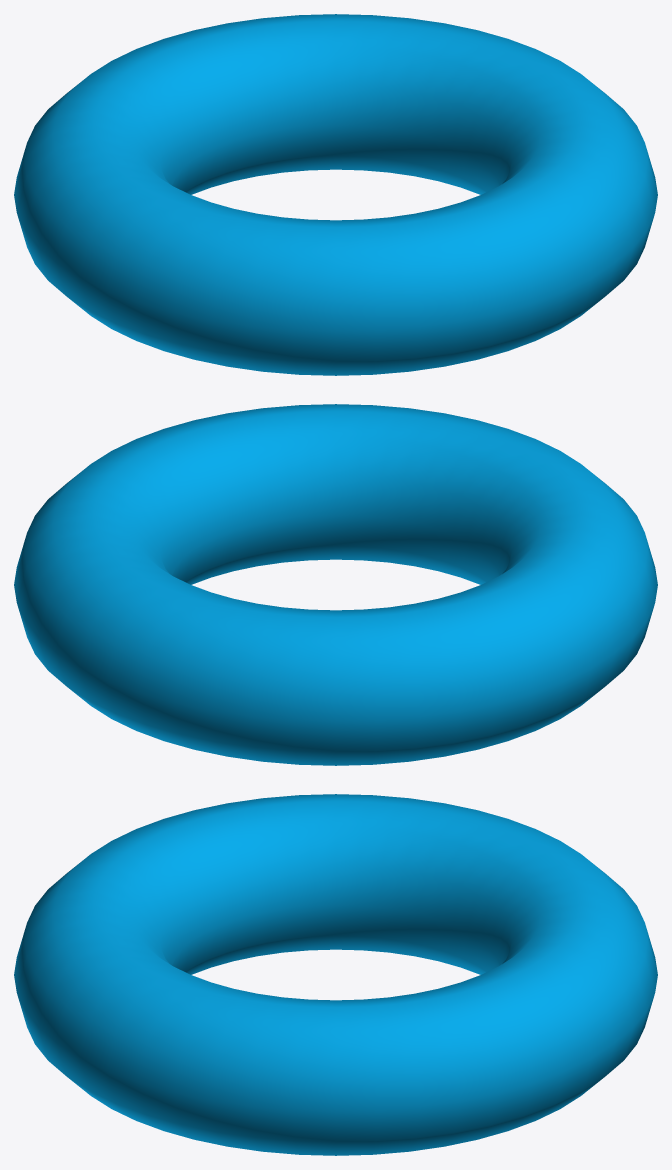
3 renders of one model, top to bottom at view 1: azimuth 30°, elevation 25°; view 2: azimuth 150°, elevation 25°; view 3: azimuth 270°, elevation 25°, orthographic.
Parts seen in each view (by area): view 1: Torus.001; view 2: Torus.001; view 3: Torus.001.
Part boxes in pixels (left/top/right/bottom): Torus.001: left=14, top=14, right=657, bottom=375; Torus.001: left=14, top=404, right=657, bottom=765; Torus.001: left=14, top=794, right=657, bottom=1155.
Bounding box in the file's own units: 264 × 64 × 264.
